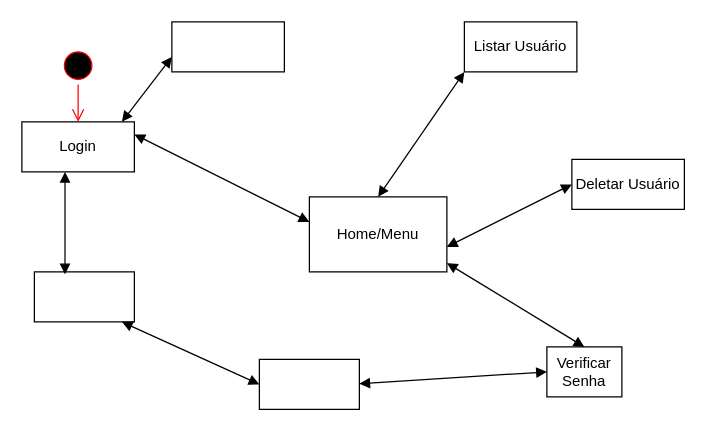
This 706x431 diagram has some shape labels left out. Each missing label, with the box of its shape:
Cadastro: (171, 21, 284, 72)
Criar Conta: (33, 271, 134, 322)
Criar Senha: (258, 358, 359, 409)
